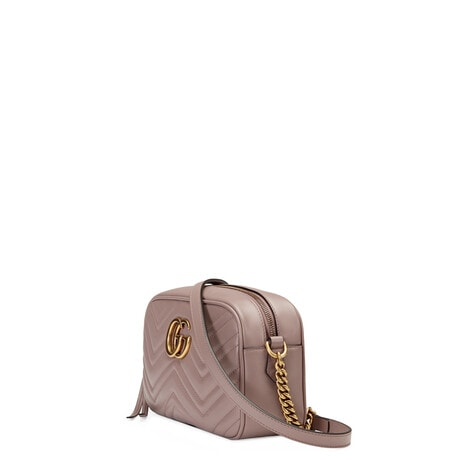Gucci: (127, 263, 302, 434), (164, 312, 196, 362)
